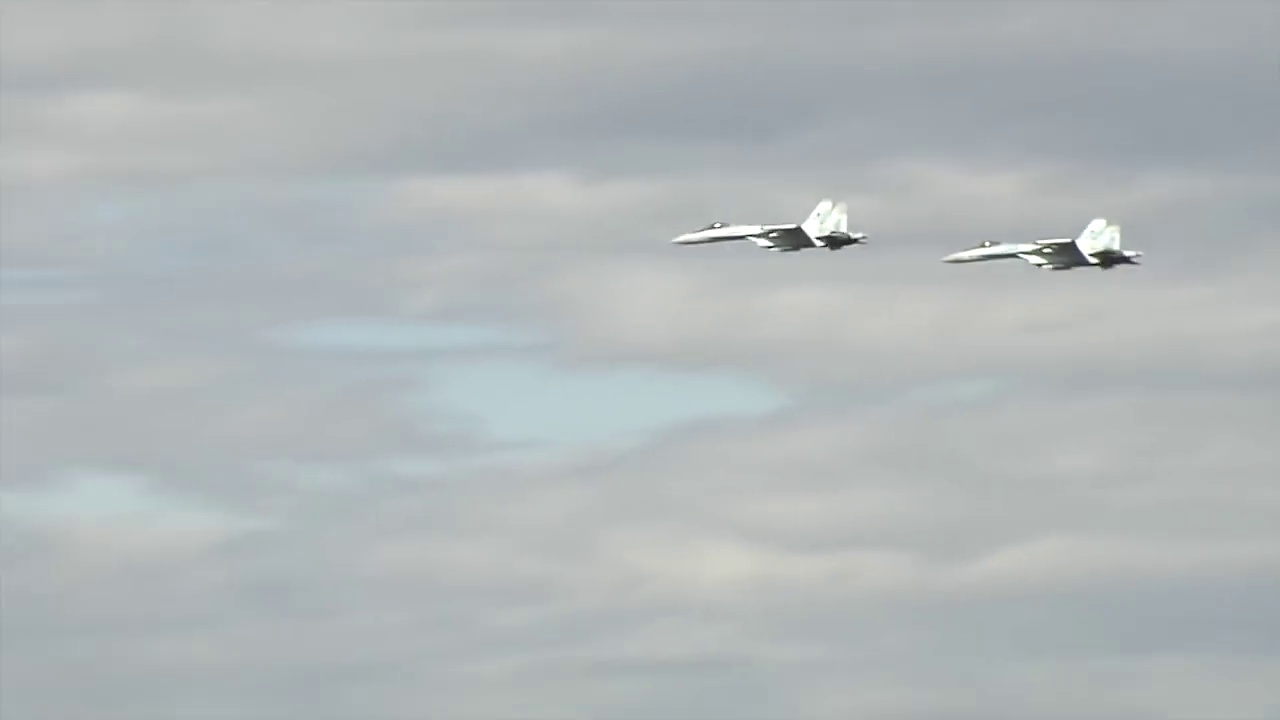Su35: (663, 188, 873, 266), (933, 211, 1144, 280)
